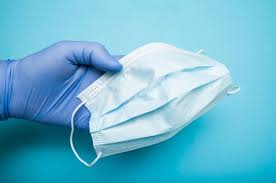flumask: (83, 47, 228, 146)
